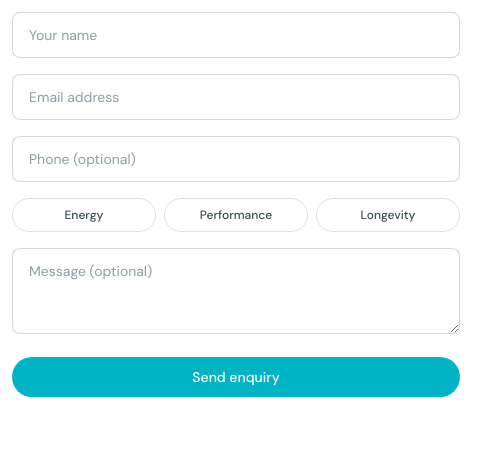
Test: EnquiryForm › shows server error when API fails
Type "Sarah Smith" into the field with placeholder "Your name" at (236, 35), box [12,12,460,58]
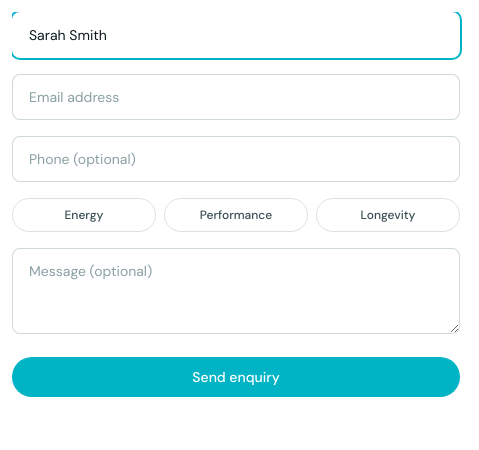
Type "sarah@example.com" into the field with placeholder "Email address" at (236, 97), box [12,74,460,120]
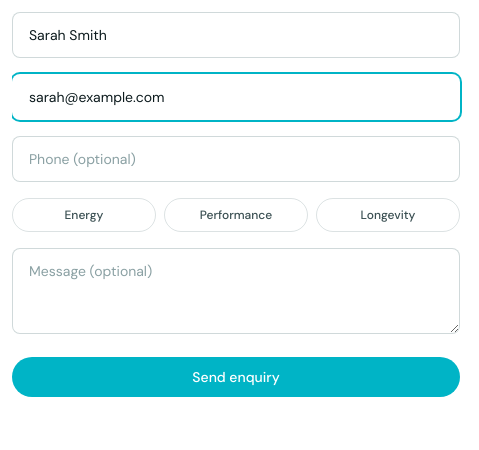
Click the button "Send enquiry" at (236, 377), box [12,357,460,397]
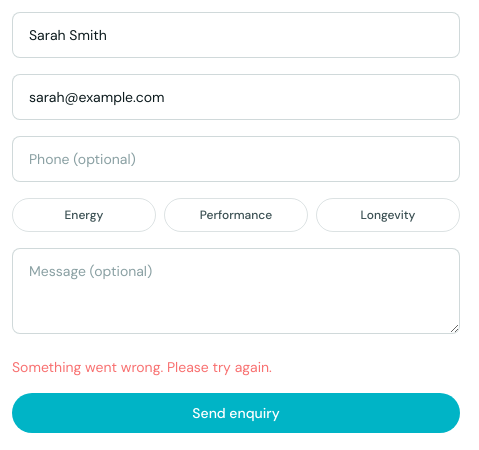
Check: the text "Something went wrong. Please try again." is shown, box [12,358,272,376]
